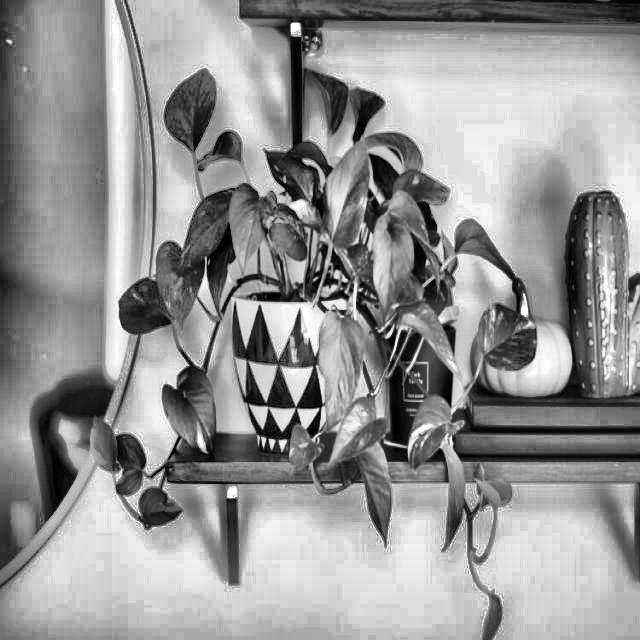plants: (124, 102, 480, 530)
